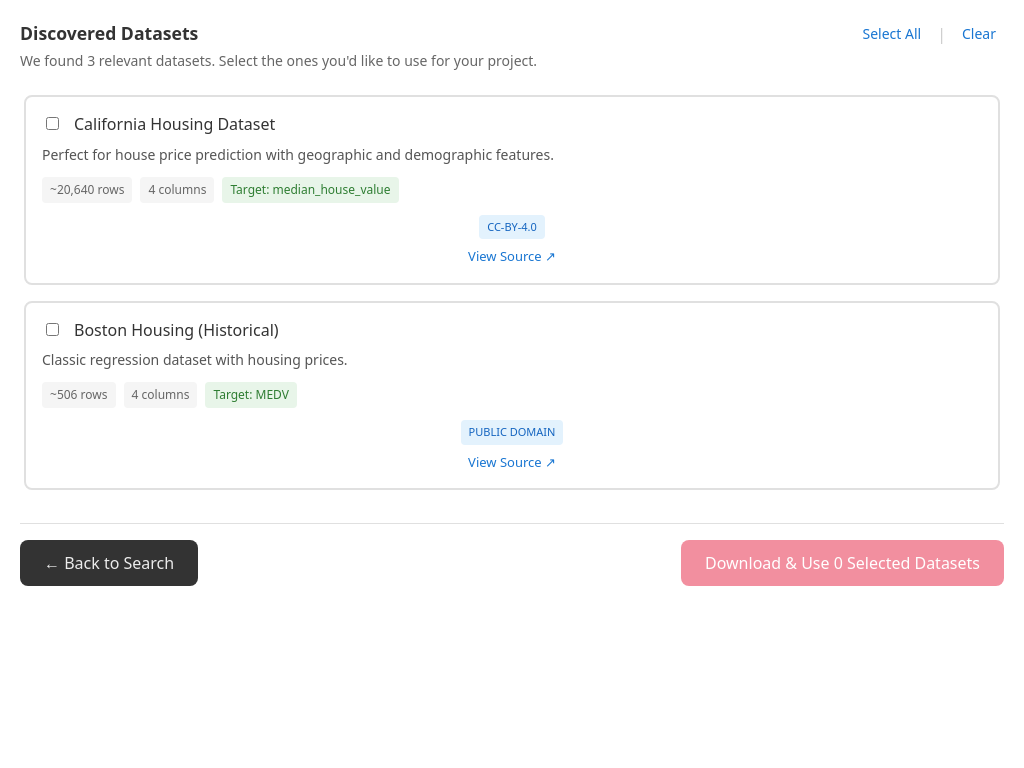
Scenario: DiscoveredDatasetsList › allows deselecting datasets
# Select and then deselect
Click the heading "California Housing Dataset" at (175, 125), box [74, 113, 275, 136]
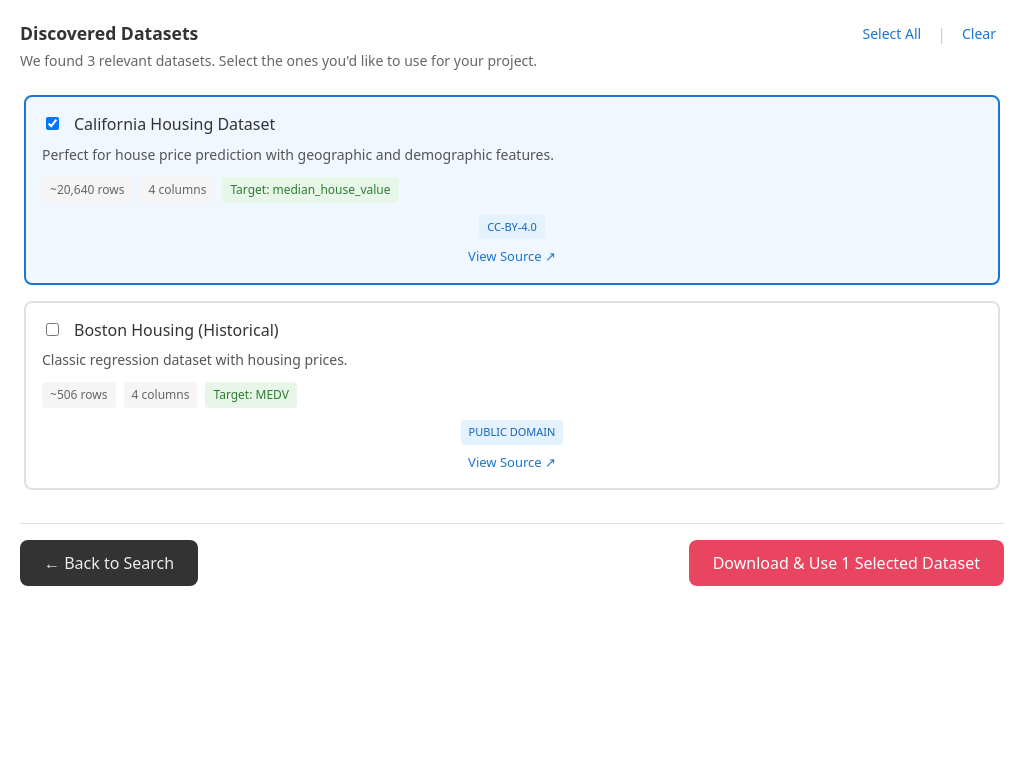
Now the button "Download & Use 1 Selected Dataset" is shown, box [689, 540, 1004, 586]
Click the heading "California Housing Dataset" at (175, 125), box [74, 113, 275, 136]
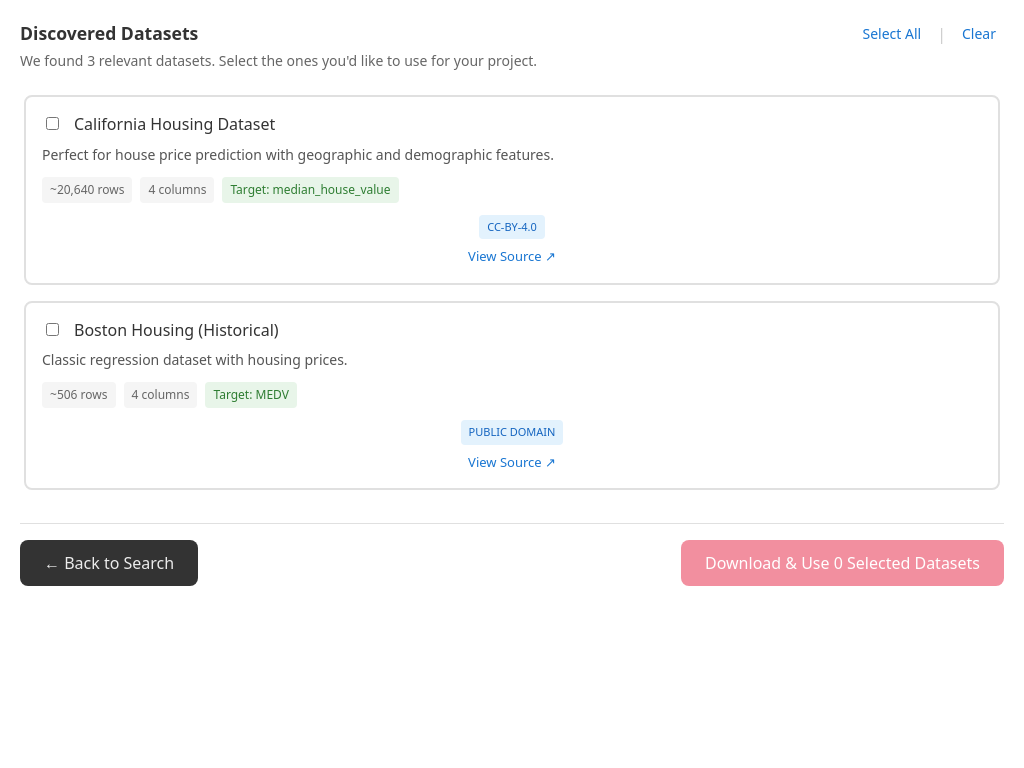
Now the button "Download & Use 0 Selected Datasets" is shown, box [681, 540, 1004, 586]
